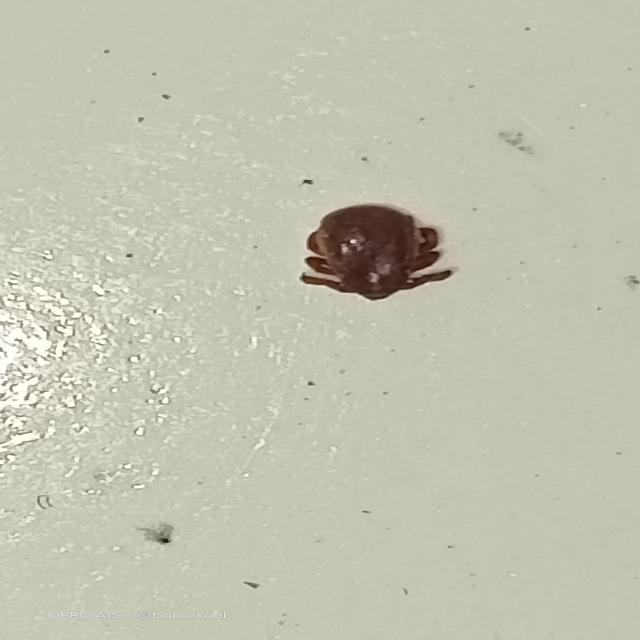Rhipicephalus Sanguineus-M: (301, 204, 455, 303)
